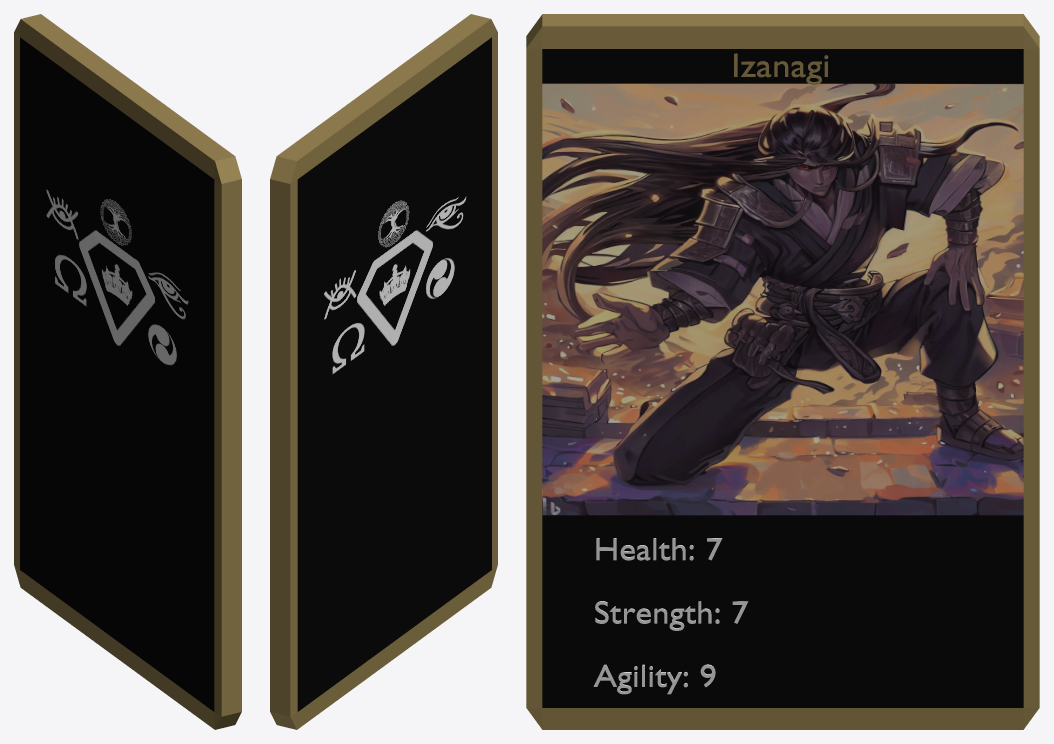
The model's file is Izanagi.fbx.
3 views of the same model, side by side, from view 1: azimuth 30°, elevation 25°; view 2: azimuth 150°, elevation 25°; view 3: azimuth 270°, elevation 25° (orthographic). The views are drawn at different scales.
Parts seen in each view (by area): view 1: Izanagi; view 2: Izanagi; view 3: Izanagi.
Part boxes in pixels (left/top/right/bottom): Izanagi: left=14, top=14, right=241, bottom=729; Izanagi: left=270, top=14, right=497, bottom=729; Izanagi: left=526, top=14, right=1039, bottom=729.
Size of the model in its own units: 20.45 by 482 by 319.
5 materials, 2 textured.
